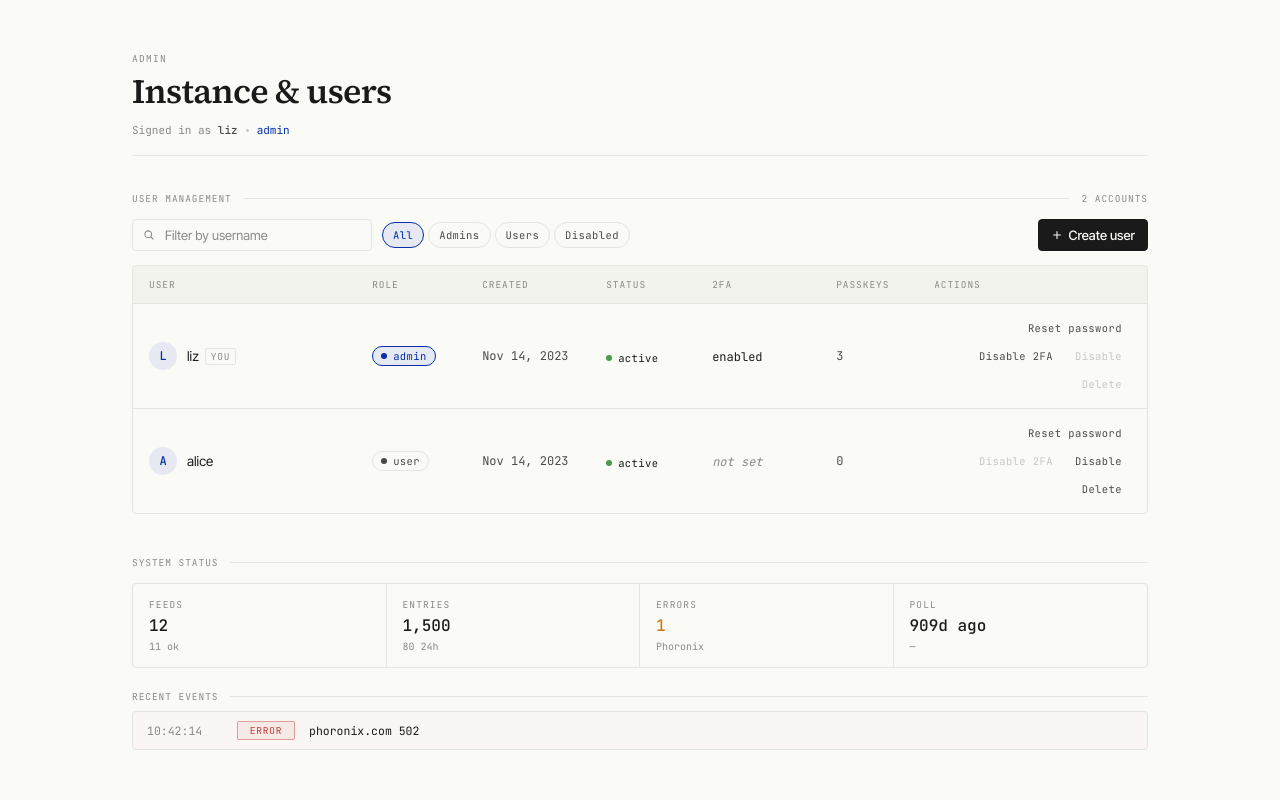
Test: Admin (admin role) › filters users by chip (Admins)
Expected: the text "3" is shown, [836,348,843,364]
Click the button "Admins": coordinates (459, 235) [428,222,490,248]
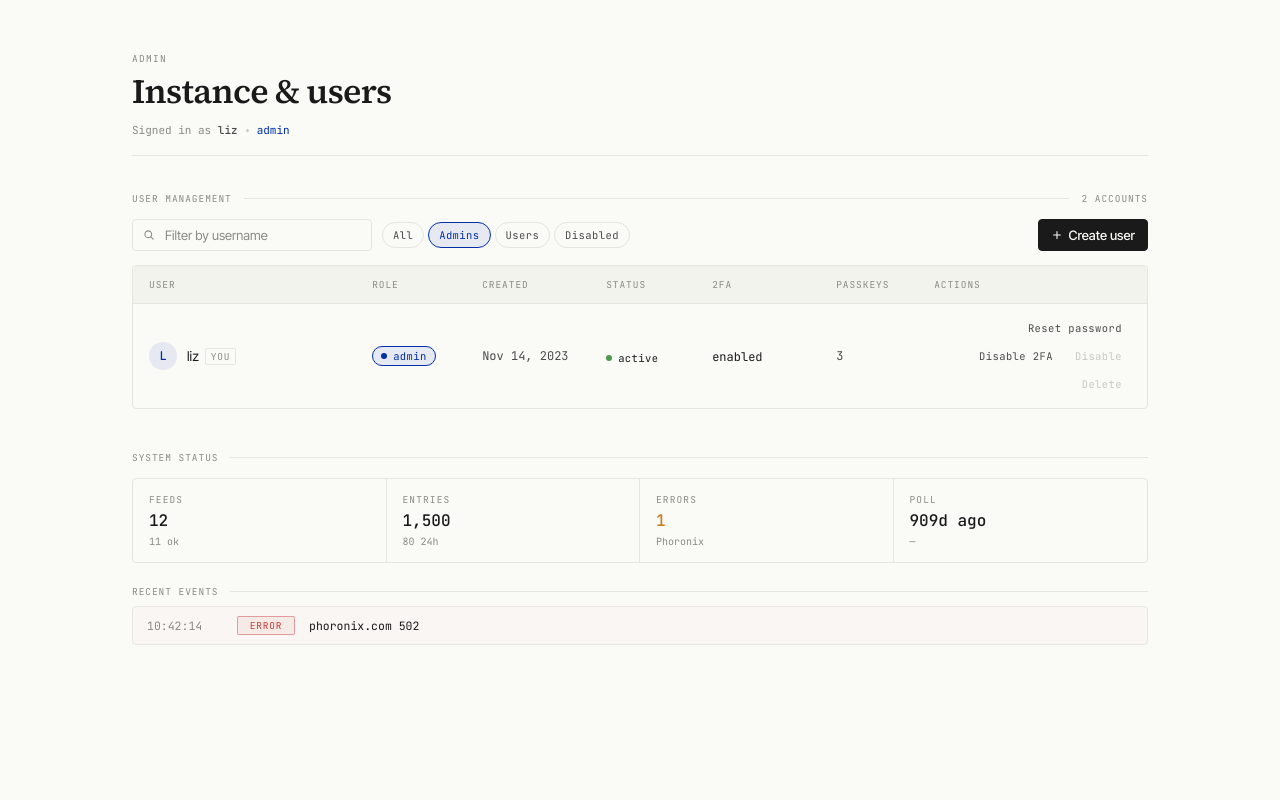
Expected: the text "3" is shown, [836,348,843,364]
Now the text with test id "urow-pk-2" is gone
